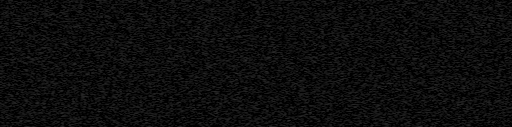wv_cw: (88, 0, 94, 127), (122, 0, 127, 127)
wv_lsb: (27, 58, 32, 76), (26, 31, 30, 44), (28, 77, 31, 83), (26, 21, 31, 24)
wv_usb: (22, 73, 28, 113), (22, 1, 28, 38), (23, 39, 27, 72), (23, 114, 27, 125)
wv_wbfm: (70, 0, 78, 127)
